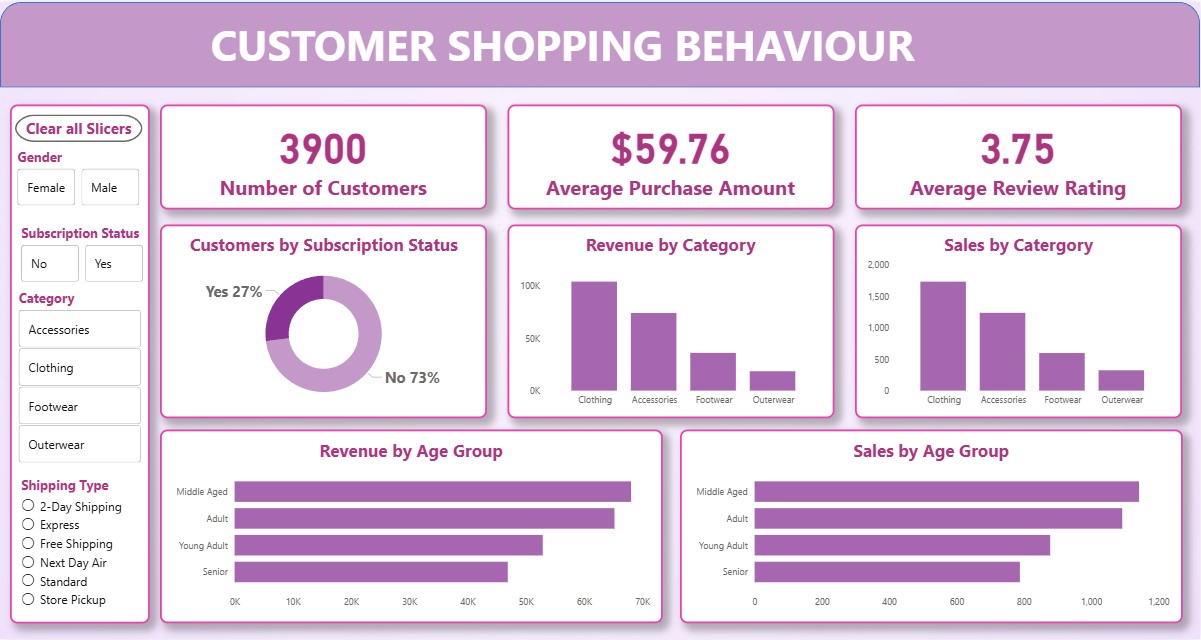

This screenshot's page, from the dashboard's own definition file:
{"tool":"powerbi","page":{"name":"Page 1","canvas":[1600,850],"ordinal":0},"visuals":[{"type":"card","fields":{"Values":["_Measures.Number of Customers"]},"box":[214,136,436,140],"z":0},{"type":"card","fields":{"Values":["_Measures.Average Purchase Amount"]},"box":[676,136,436,140],"z":1000},{"type":"card","fields":{"Values":["_Measures.Average Review Rating"]},"box":[1140,136,436,140],"z":2000},{"type":"shape","box":[0,0,1600,114],"z":3000},{"type":"textbox","box":[0,14,1500,86],"z":4000},{"type":"shape","box":[214,296,436,258],"z":5000},{"type":"donutChart","title":"Customers by Subscription Status","fields":{"Category":["customer.subscription_status"],"Y":["Count(customer.customer_id)"]},"box":[225,306.7,413.3,241.7],"z":6000},{"type":"shape","box":[676,296,436,258],"z":7000},{"type":"shape","box":[1140,296,436,258],"z":8000},{"type":"shape","box":[214,570,670,258],"z":9000},{"type":"shape","box":[906,570,670,258],"z":10000},{"type":"shape","box":[14,136,186,692],"z":11000},{"type":"clusteredColumnChart","title":"Revenue by Category","fields":{"Y":["Sum(customer.purchase_amount)"],"Category":["customer.category"]},"box":[688.3,306.7,411.7,241.7],"z":12000},{"type":"clusteredColumnChart","title":"Sales by Catergory","fields":{"Category":["customer.category"],"Y":["CountNonNull(customer.customer_id)"]},"box":[1151.7,306.7,413.3,241.7],"z":13000},{"type":"advancedSlicerVisual","title":"Category","fields":{"Values":["customer.category"]},"box":[20,383.3,173.3,236.7],"z":14000},{"type":"listSlicer","title":"Shipping Type","fields":{"Values":["customer.shipping_type"]},"box":[23.3,631.7,171.7,186.7],"z":15000},{"type":"clusteredBarChart","title":"Revenue by Age Group","fields":{"Y":["Sum(customer.purchase_amount)"],"Category":["customer.age_group"]},"box":[225,581.7,646.7,236.7],"z":16000},{"type":"clusteredBarChart","title":"Sales by Age Group","fields":{"Category":["customer.age_group"],"Y":["CountNonNull(customer.customer_id)"]},"box":[918.3,581.7,646.7,236.7],"z":17000},{"type":"actionButton","box":[20.5,150,170,36.7],"z":18000},{"type":"advancedSlicerVisual","title":"Gender","fields":{"Values":["customer.gender"]},"box":[18.3,195,173.3,81.7],"z":19000},{"type":"advancedSlicerVisual","title":"Subscription Status","fields":{"Values":["customer.subscription_status"]},"box":[23.3,296.7,173.3,81.7],"z":20000}]}

Visuals, with their boxes in screenshot pixels (x1, y1, x2, y2), scaled from the page's 1600x850 canvas onto the 1201x640 screenshot:
card - _Measures.Number of Customers: (161,102,488,208)
card - _Measures.Average Purchase Amount: (507,102,835,208)
card - _Measures.Average Review Rating: (856,102,1183,208)
shape: (0,0,1200,86)
textbox: (0,11,1126,75)
shape: (161,223,488,417)
"Customers by Subscription Status" donutChart: (169,231,479,413)
shape: (507,223,835,417)
shape: (856,223,1183,417)
shape: (161,429,664,623)
shape: (680,429,1183,623)
shape: (11,102,150,623)
"Revenue by Category" clusteredColumnChart: (517,231,826,413)
"Sales by Catergory" clusteredColumnChart: (864,231,1175,413)
"Category" advancedSlicerVisual: (15,289,145,467)
"Shipping Type" listSlicer: (17,476,146,616)
"Revenue by Age Group" clusteredBarChart: (169,438,654,616)
"Sales by Age Group" clusteredBarChart: (689,438,1175,616)
actionButton: (15,113,143,141)
"Gender" advancedSlicerVisual: (14,147,144,208)
"Subscription Status" advancedSlicerVisual: (17,223,148,285)
